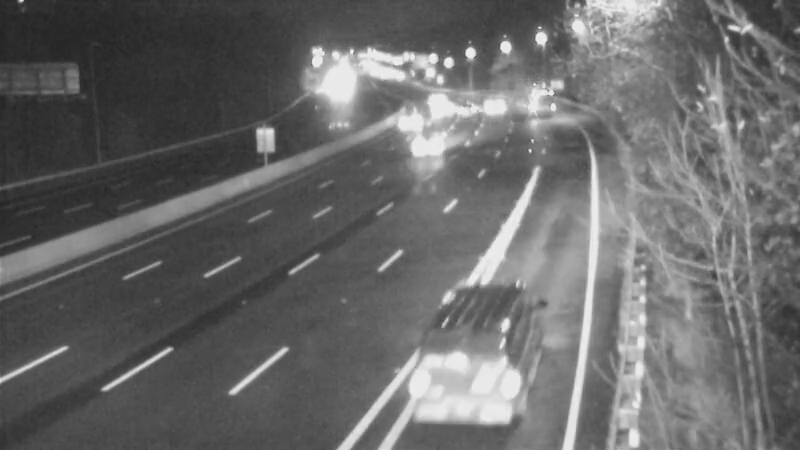vehicle: (407, 295, 517, 405), (409, 84, 459, 134), (510, 71, 560, 121), (413, 73, 463, 123), (466, 82, 516, 132), (443, 85, 493, 135), (387, 94, 437, 144), (405, 114, 455, 164)
